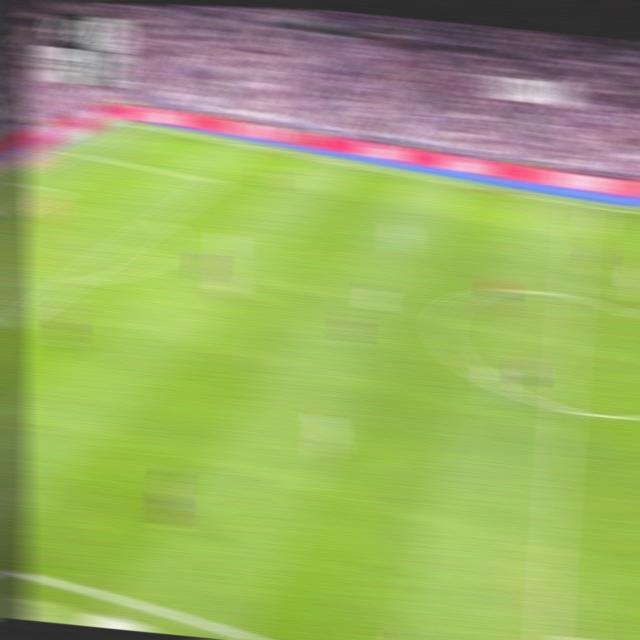bigarea_top_inner: (203, 174, 223, 188)
bigarea_top_outter: (61, 144, 81, 156)
bottom_arc_area_intersection: (63, 270, 85, 289)
corner: (120, 115, 144, 129)
halfcircle_bottom: (550, 393, 577, 421)
halfcircle_top: (559, 284, 585, 308)
midline_top_intersection: (568, 197, 590, 211)
smallarea_top_inner: (48, 186, 66, 195)
top_arc_area_intersection: (149, 210, 171, 227)
